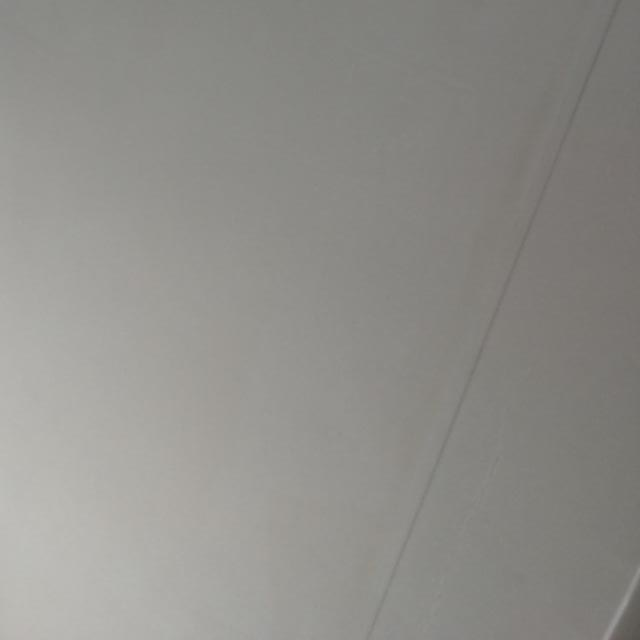fluorescent tube: (1, 0, 64, 400)
